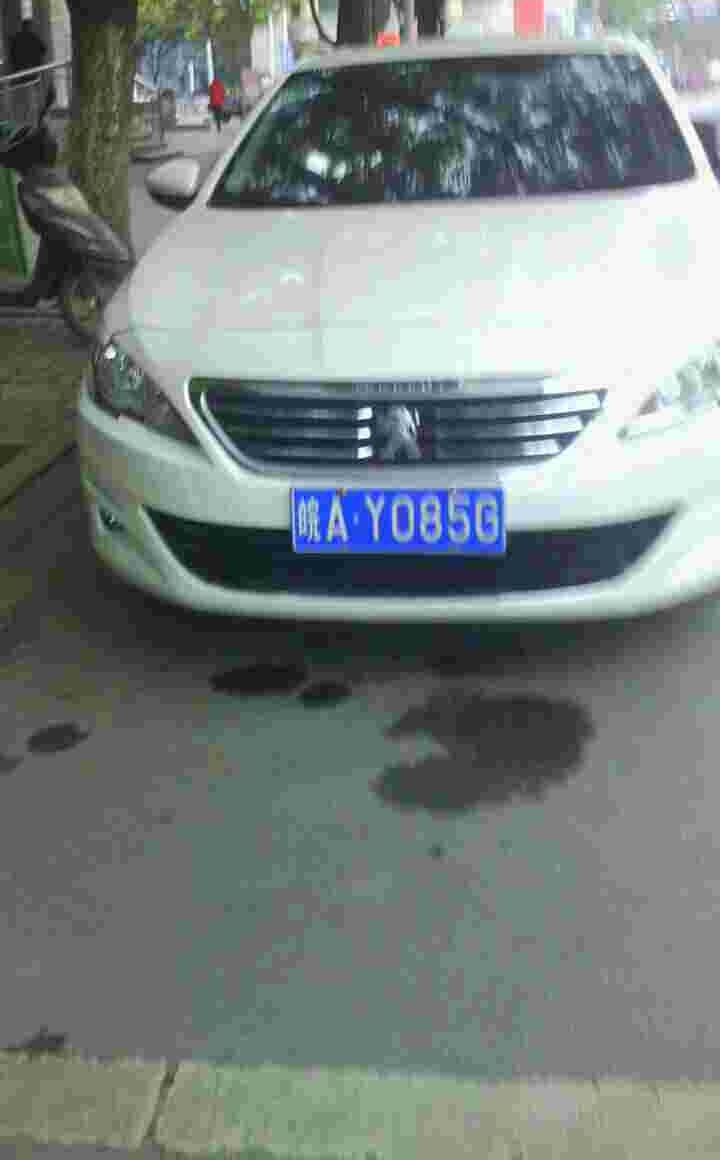license_plate: (274, 481, 512, 565)
